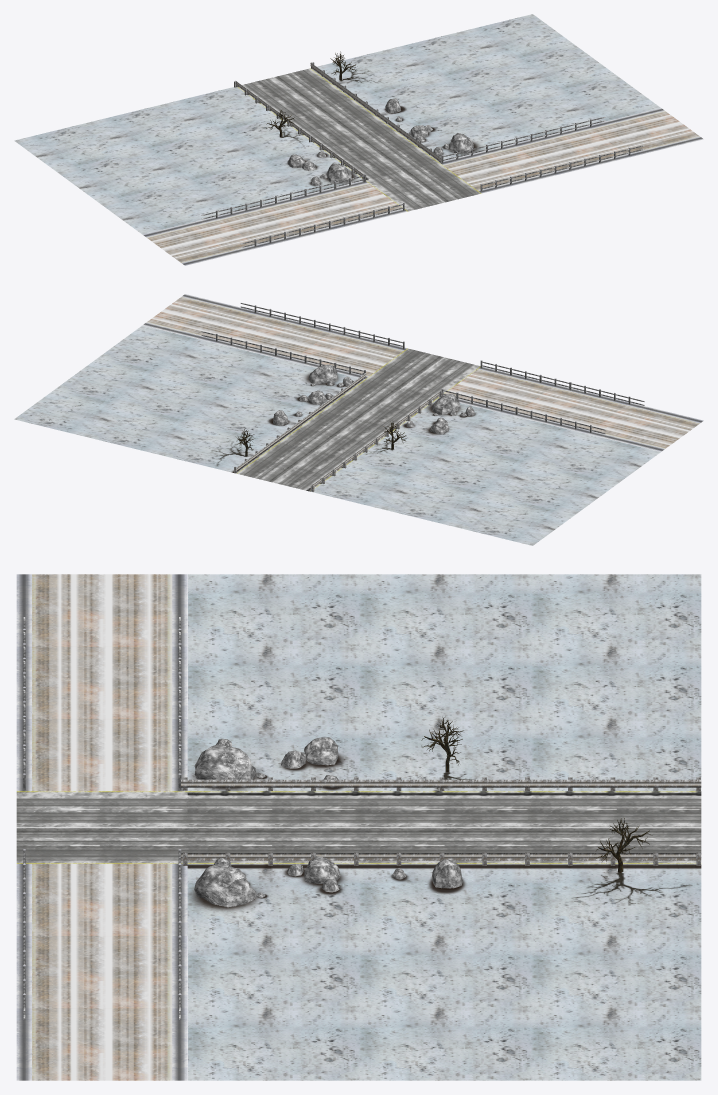
File: end1.FBX
3 renders of one model, top to bottom at view 1: azimuth 30°, elevation 25°; view 2: azimuth 150°, elevation 25°; view 3: azimuth 270°, elevation 25°, orthographic. The views are drawn at different scales.
Parts seen in each view (by area): view 1: end2 (×2), road014, boundry002, rock008, relling006, Box037; view 2: end2 (×2), road014, boundry002, rock008, relling006, Box037; view 3: end2 (×2), road014, boundry002, relling006, rock008, Box037.
Boxes of the visible parts, x1,y1,x2,y2 form: end2 (×2): (14,14,699,263); road014: (237,68,481,211); boundry002: (142,108,703,265); rock008: (287,98,473,185); relling006: (234,62,441,181); Box037: (266,51,355,136); end2 (×2): (14,297,699,545); road014: (237,348,480,491); boundry002: (143,294,703,451); rock008: (273,364,474,434); relling006: (234,372,442,491); Box037: (236,421,406,455); end2 (×2): (32,574,701,1080); road014: (16,791,701,863); boundry002: (16,574,187,1080); relling006: (181,777,701,865); rock008: (194,737,462,907); Box037: (421,717,652,872).
Size of the model in its own units: 140 by 8.74 by 80.
